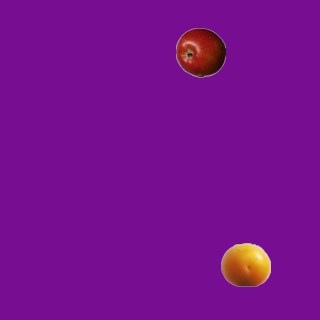Apple Braeburn: (175, 27, 225, 77)
Cherry Wax Yellow: (220, 239, 270, 289)
